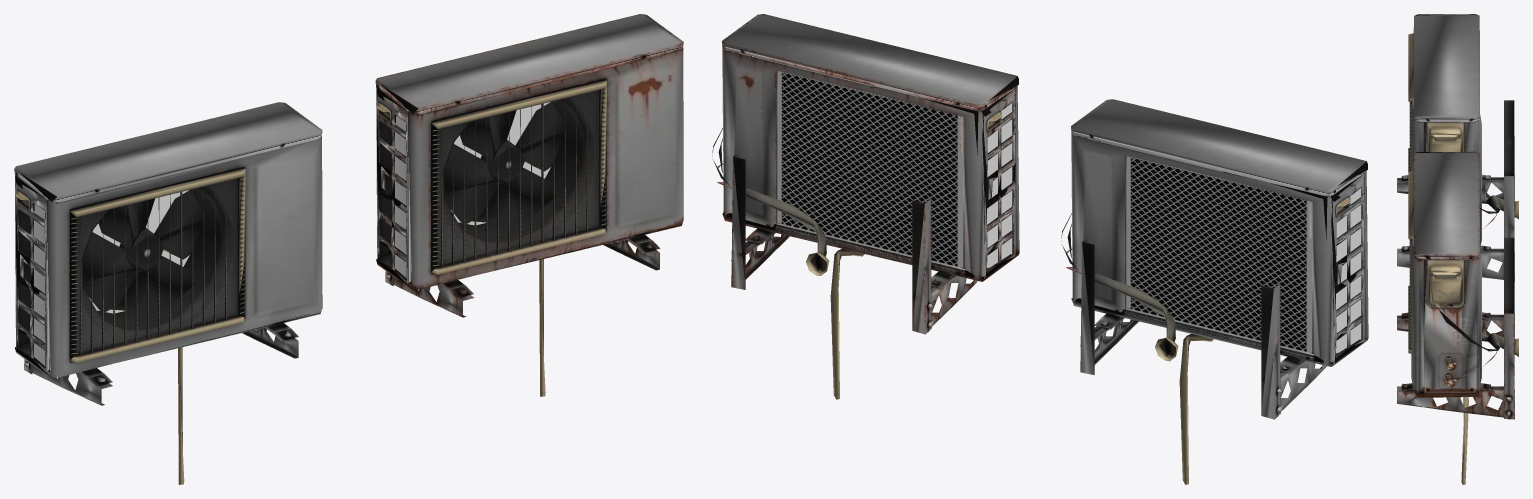
Rendered from aircon.glb.
3 renders of one model, left to right at view 1: azimuth 30°, elevation 25°; view 2: azimuth 150°, elevation 25°; view 3: azimuth 270°, elevation 25°, orthographic. The views are drawn at different scales.
Parts seen in each view (by area): view 1: exterior_aircon_unit, exterior_aircon_unit_rusted; view 2: exterior_aircon_unit_rusted, exterior_aircon_unit; view 3: exterior_aircon_unit_rusted, exterior_aircon_unit.
Boxes of the visible parts, left/top/right/bottom form: exterior_aircon_unit: left=14, top=102, right=322, bottom=484; exterior_aircon_unit_rusted: left=375, top=14, right=683, bottom=396; exterior_aircon_unit_rusted: left=712, top=14, right=1019, bottom=399; exterior_aircon_unit: left=1061, top=99, right=1368, bottom=484; exterior_aircon_unit_rusted: left=1397, top=151, right=1518, bottom=484; exterior_aircon_unit: left=1397, top=14, right=1518, bottom=281.
Bounding box in the file's own units: 1.8 × 0.9228 × 0.3741.
Materials: 4 (4 with a texture image).
